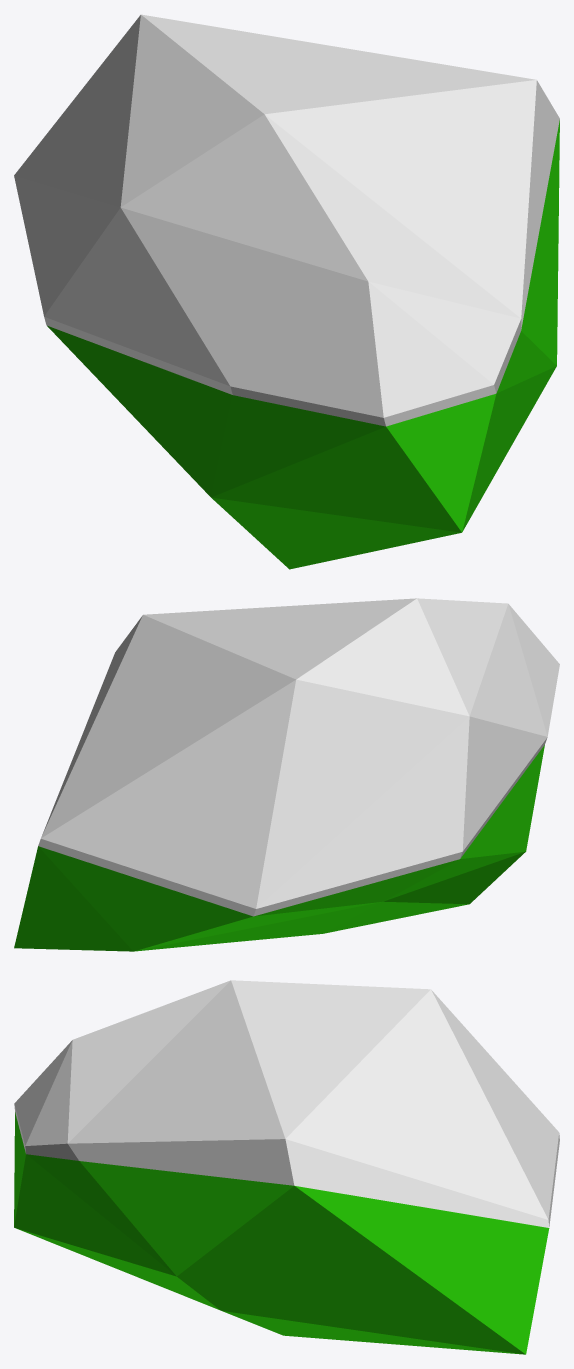
The model's file is Bush#9_Snow.fbx.
3 renders of one model, top to bottom at view 1: azimuth 30°, elevation 25°; view 2: azimuth 150°, elevation 25°; view 3: azimuth 270°, elevation 25°, orthographic. The views are drawn at different scales.
Parts seen in each view (by area): view 1: Bush#9_Snow; view 2: Bush#9_Snow; view 3: Bush#9_Snow.
Boxes of the visible parts, box(x1,y1,x2,y2) form: Bush#9_Snow: box(14, 14, 559, 569); Bush#9_Snow: box(14, 598, 559, 951); Bush#9_Snow: box(14, 980, 559, 1354).
Size of the model in its own units: 286 by 240 by 392.
